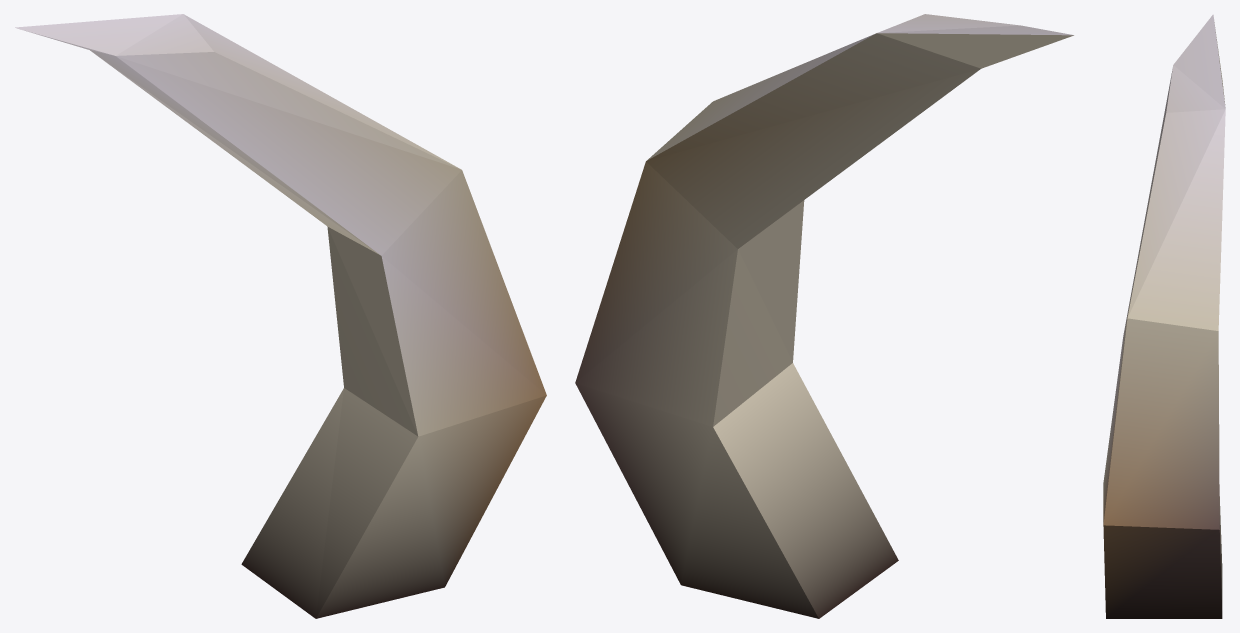
The model's file is Mixed_Bone_04.fbx.
3 renders of one model, left to right at view 1: azimuth 30°, elevation 25°; view 2: azimuth 150°, elevation 25°; view 3: azimuth 270°, elevation 25°, orthographic. The views are drawn at different scales.
Visible parts, largest first — view 1: Bone_04.001; view 2: Bone_04.001; view 3: Bone_04.001.
Boxes of the visible parts, x1=… form: Bone_04.001: x1=15, y1=14, x2=546, y2=618; Bone_04.001: x1=575, y1=14, x2=1073, y2=618; Bone_04.001: x1=1103, y1=14, x2=1225, y2=618.
Bounding box in the file's own units: 141 × 174 × 41.27.
